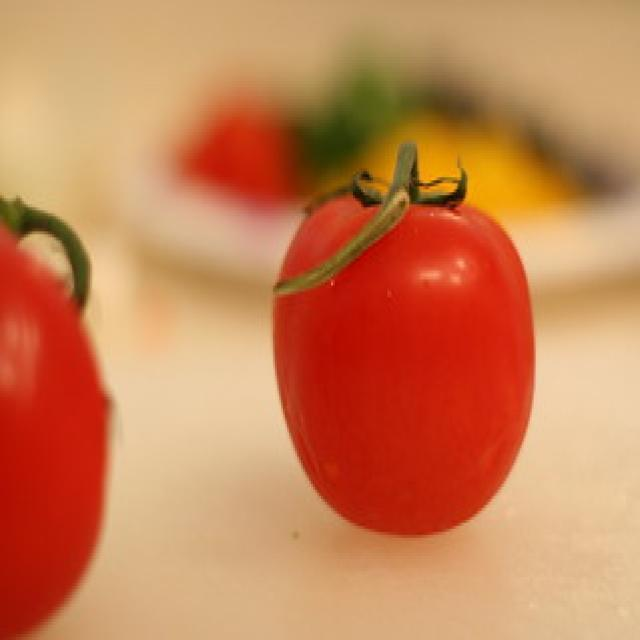kirmizi: (236, 160, 578, 548), (4, 178, 118, 640)
